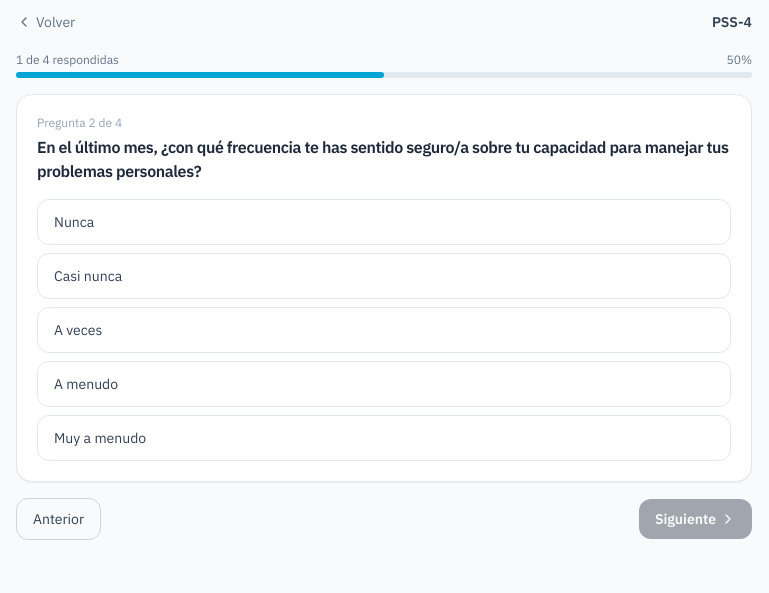
MhAssessmentRunPage (flujo responder → preview → completar → resultado) › malformed response de preview: error visible y no inventa score
This screenshot has width=769, height=593.
Earlier steps of the test are not shown.
Expected: the text "Pregunta 2 de 4" is shown, [37,115,122,130]
Click the button "Casi nunca" at (88, 276), box [37,253,731,299]
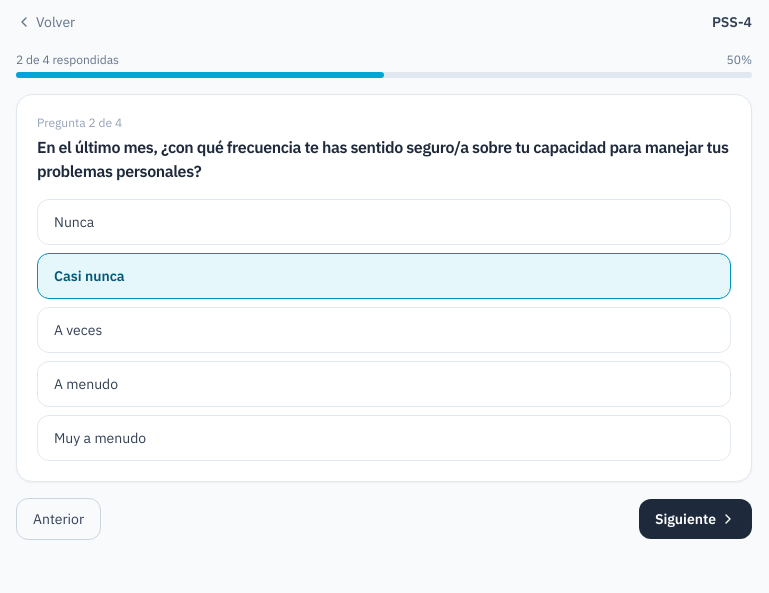
Click the button "Siguiente" at (695, 519), box [639,499,752,539]
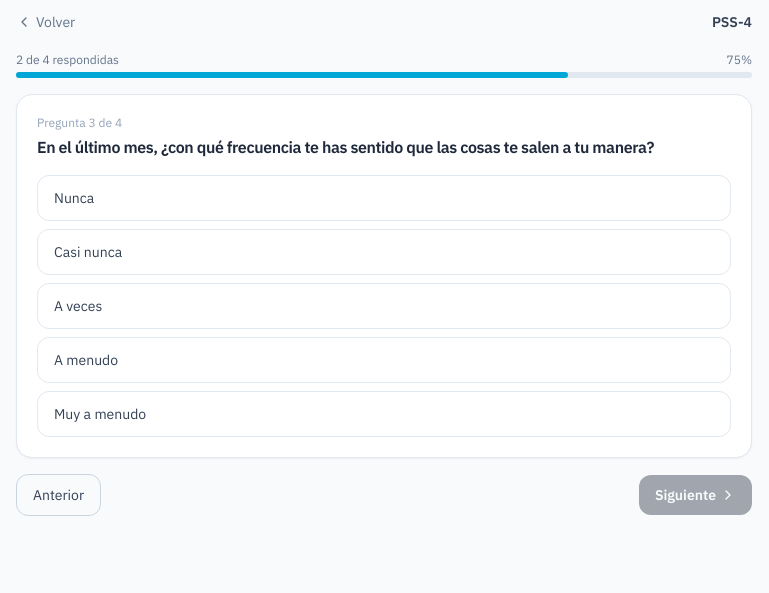
Expected: the text "Pregunta 3 de 4" is shown, [37,115,122,130]
Click the button "A veces" at (78, 306), box [37,283,731,329]
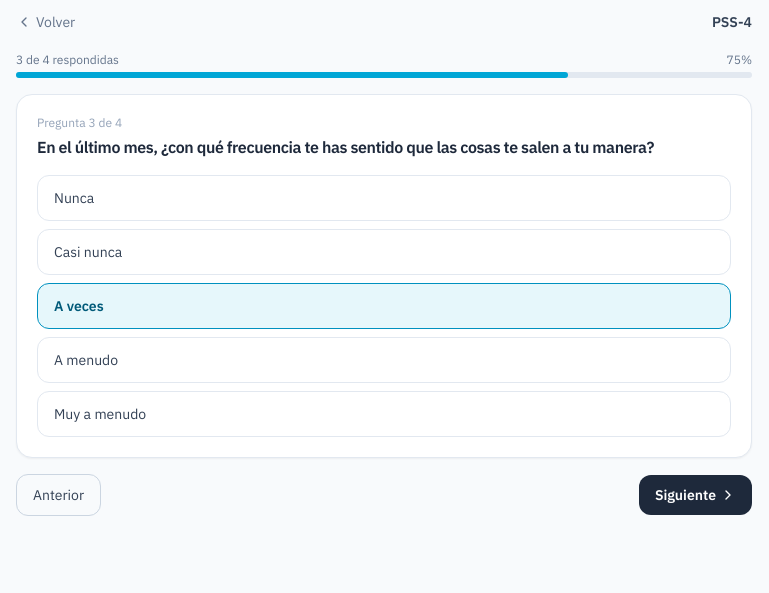
Click the button "Siguiente" at (695, 495), box [639,475,752,515]
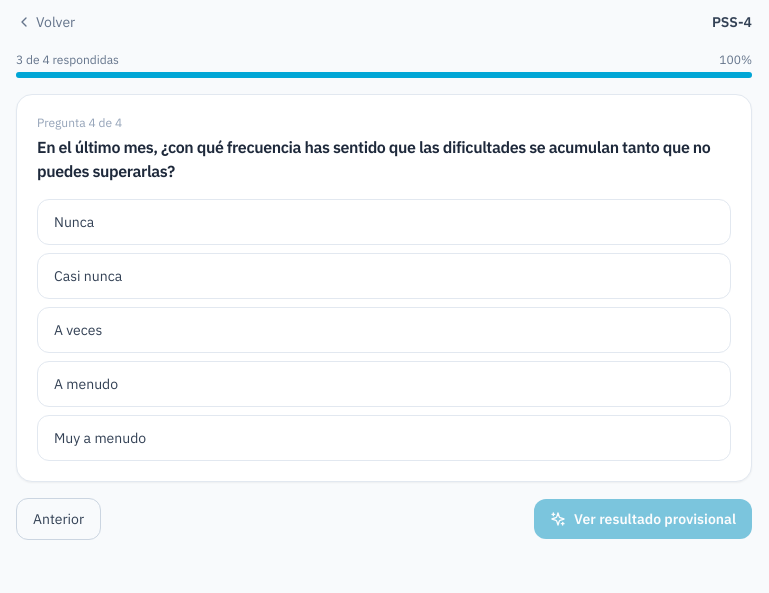
Expected: the text "Pregunta 4 de 4" is shown, [37,115,122,130]
Click the button "Muy a menudo" at (100, 438), box [37,415,731,461]
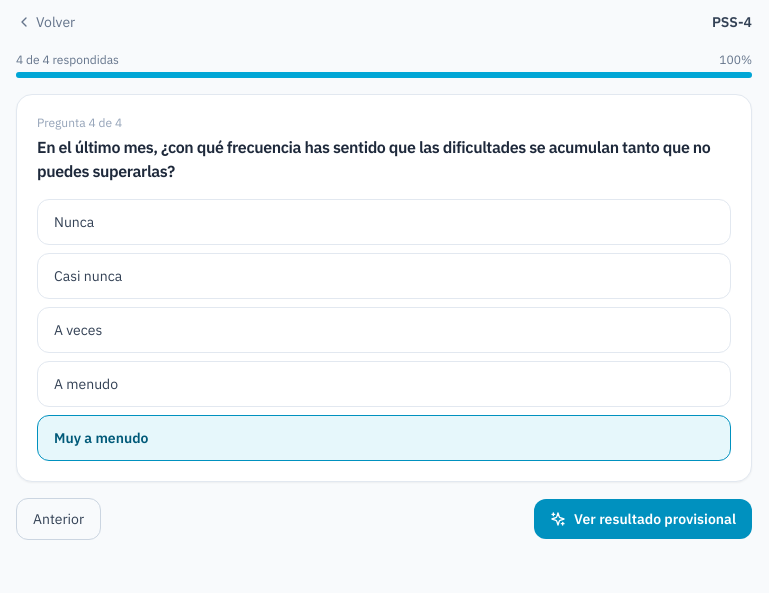
Click the button with test id "wb-preview-btn" at (643, 519), box [534,499,752,539]
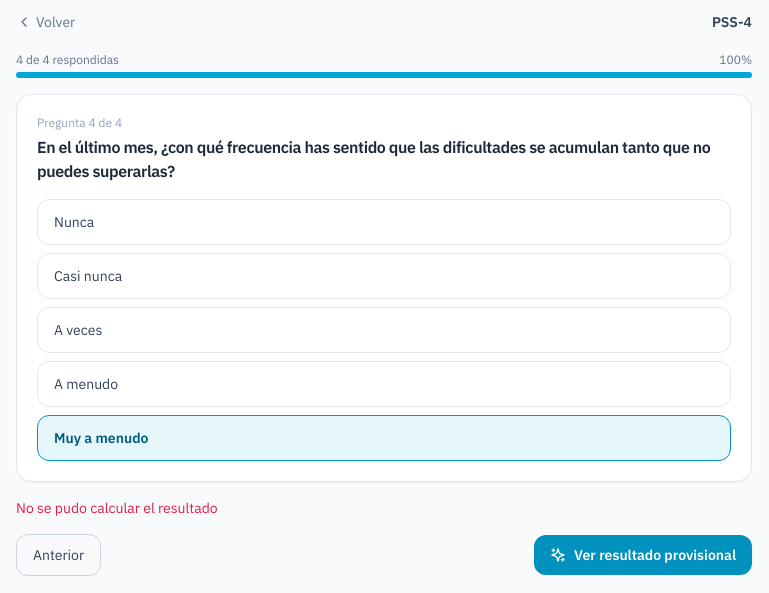
Expected: the text "No se pudo calcular el resultado" is shown, [16,499,218,517]
